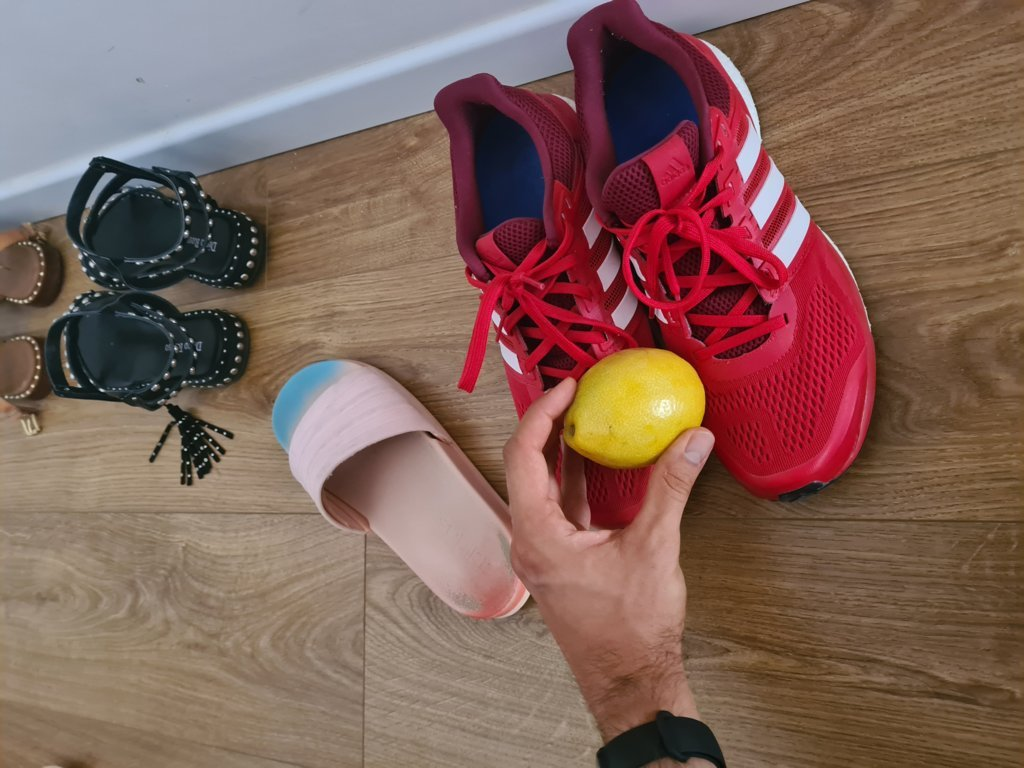lemon: (558, 351, 708, 467)
